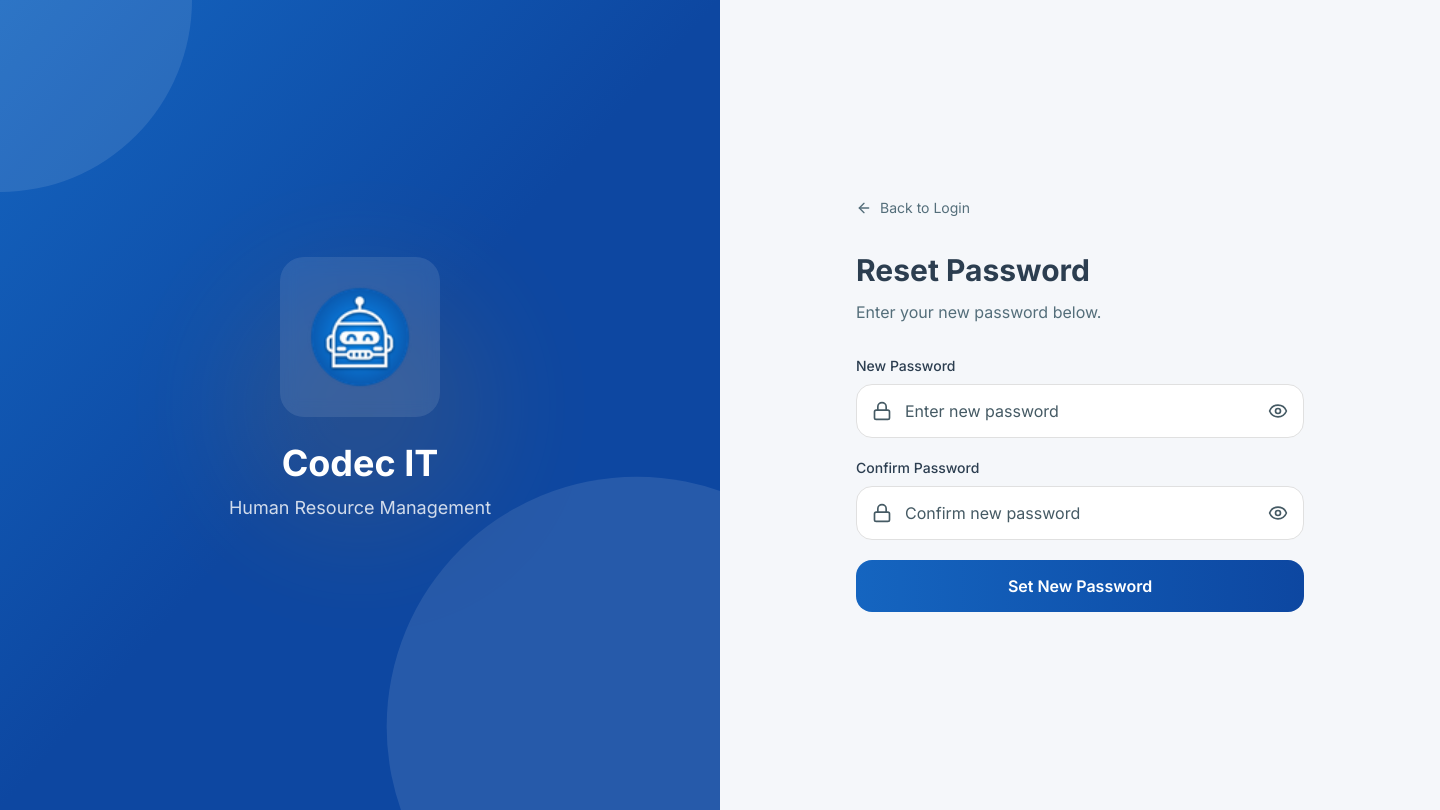
Test: ResetPassword › validates password mismatch
Type "password123" into the password field labelled "New Password" at point(1080, 411), box [856,384,1304,438]
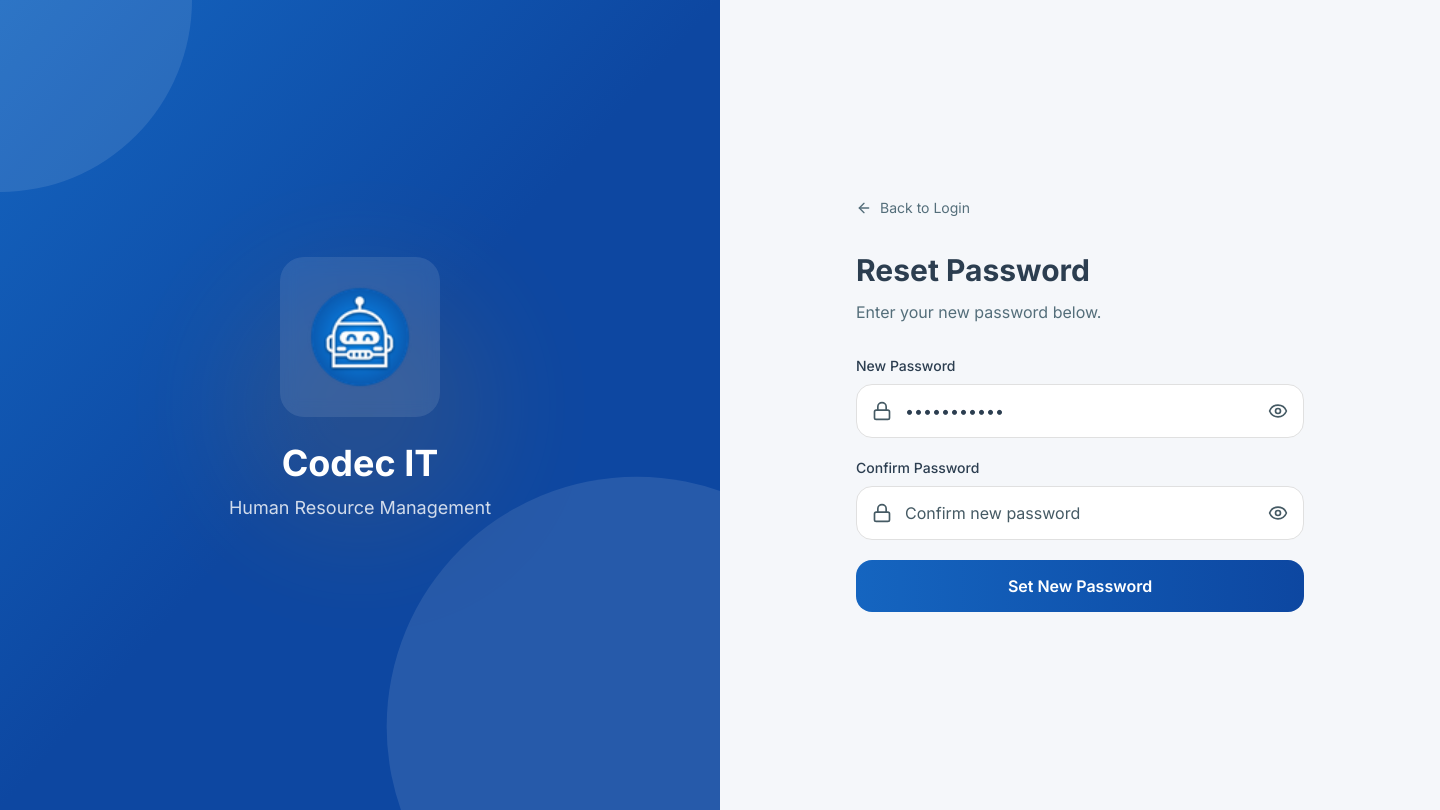
Type "mismatch" into the password field labelled "Confirm Password" at point(1080, 513), box [856,486,1304,540]
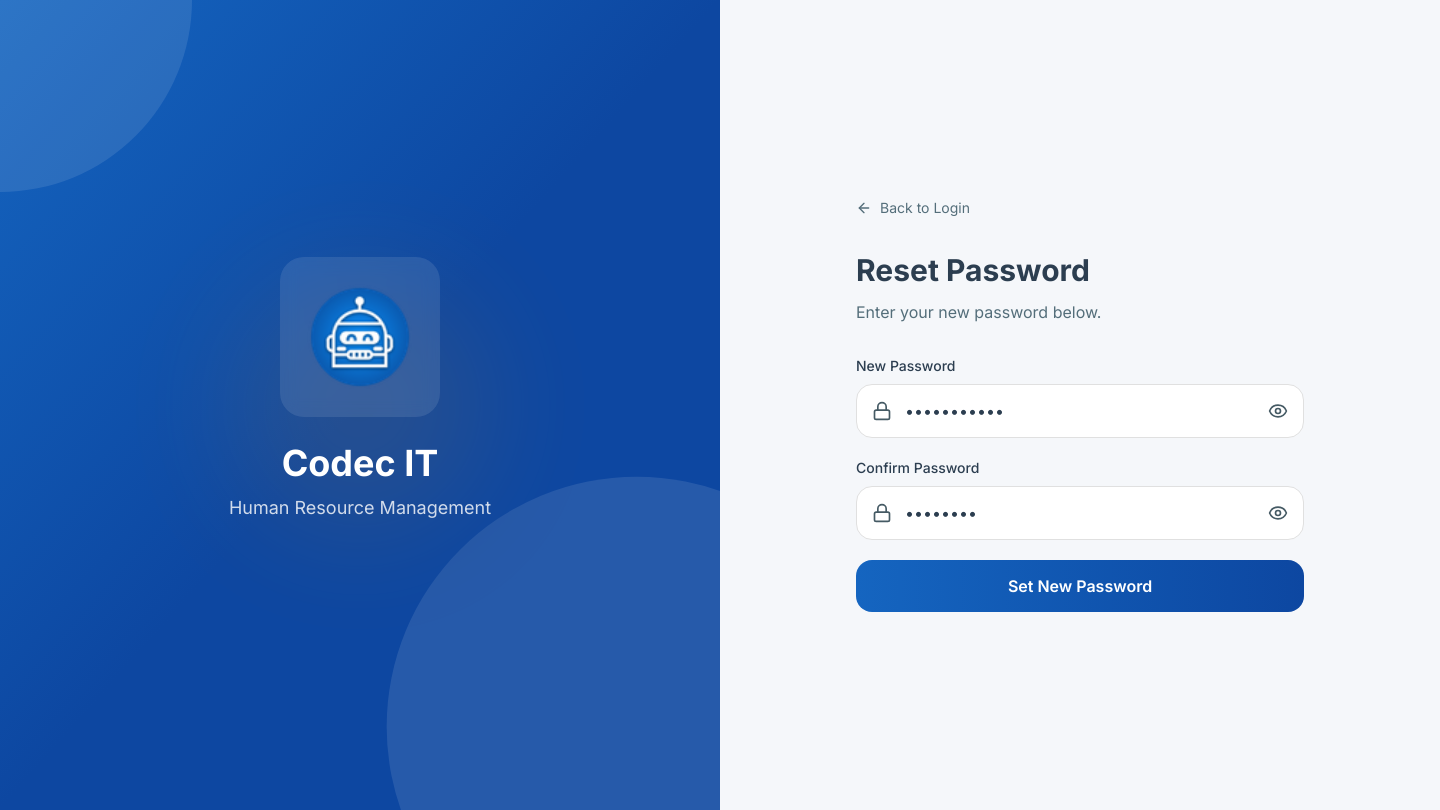
Click the button "Set New Password" at point(1080, 586), box [856,560,1304,612]
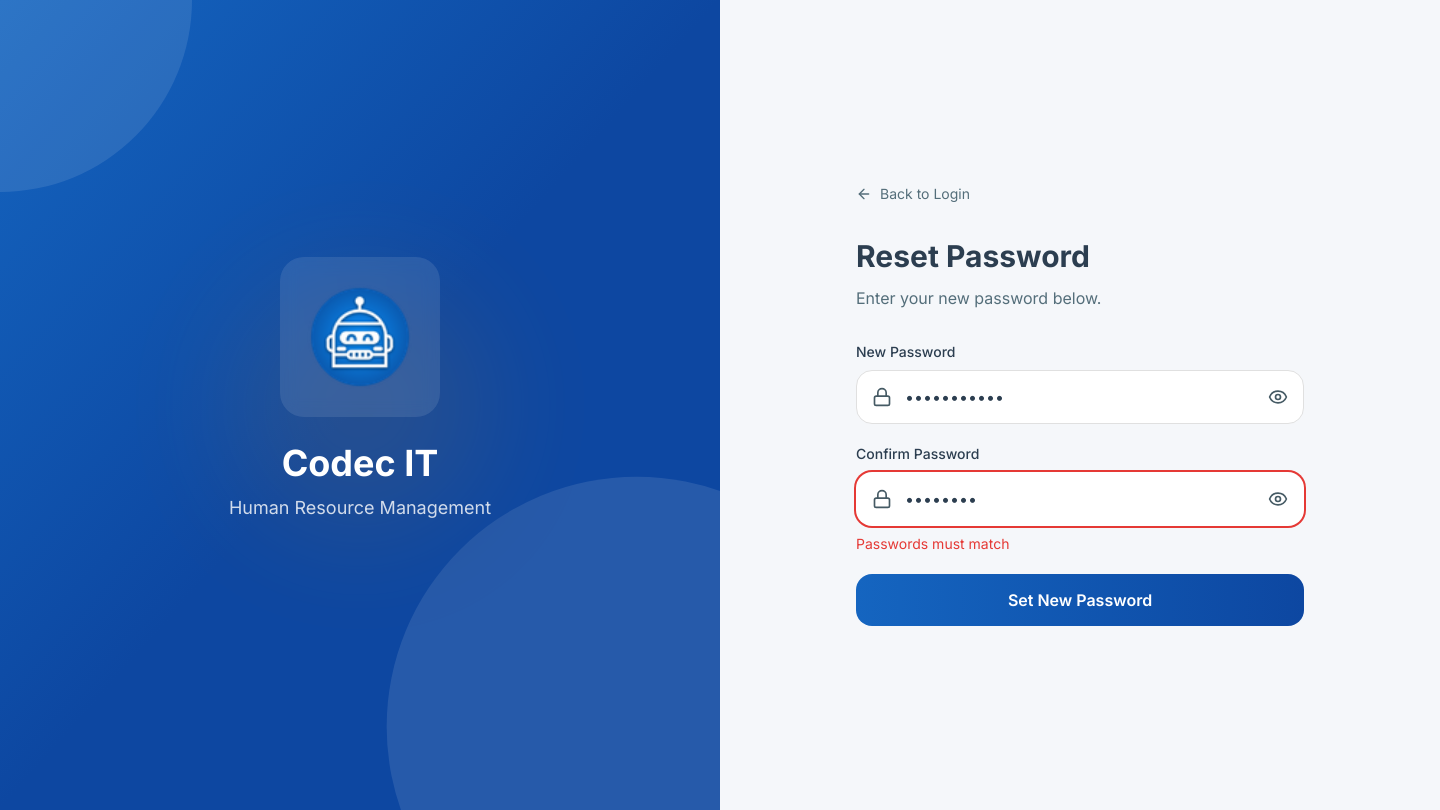
Check: the text "Passwords must match" is shown, box [856,535,1009,552]
